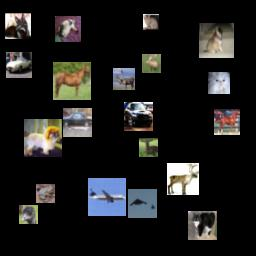airplane: (88, 178, 126, 216), (128, 189, 157, 218)
automobile: (124, 102, 153, 131), (63, 108, 92, 137), (6, 52, 32, 78)
bird: (19, 205, 38, 224)
cat: (188, 211, 217, 240), (55, 16, 81, 42), (5, 13, 31, 39), (208, 72, 230, 94), (143, 14, 159, 30)
deer: (167, 163, 199, 195), (113, 68, 135, 90), (139, 138, 158, 157), (142, 54, 161, 73)
dog: (24, 119, 62, 157), (199, 23, 234, 58)
frog: (36, 184, 55, 203)
